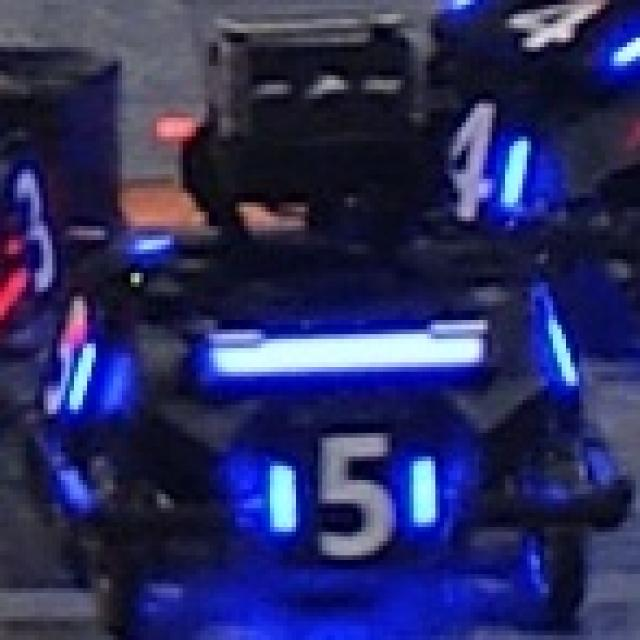B4: (435, 5, 640, 75), (422, 104, 540, 221)
B5: (252, 419, 448, 560), (39, 296, 105, 433)
